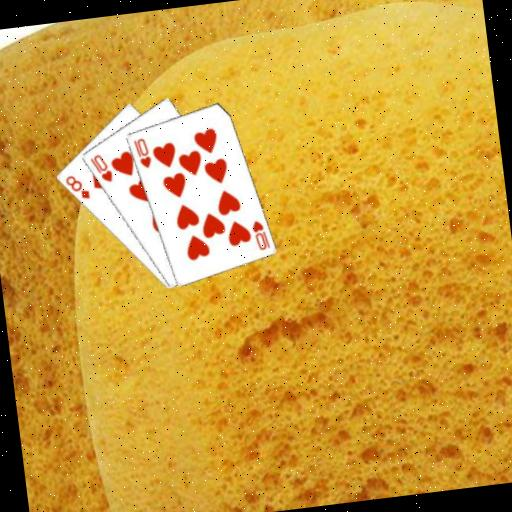10H: (87, 151, 115, 186), (130, 135, 154, 171), (248, 216, 272, 252)
8D: (61, 170, 91, 203)
